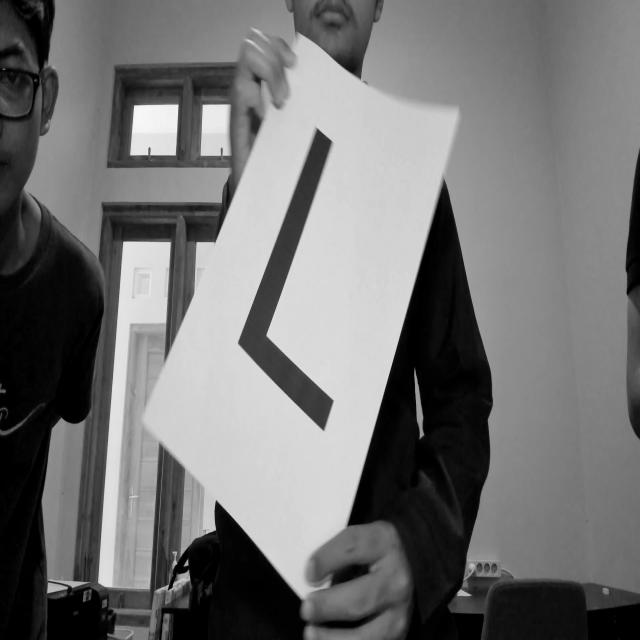l: (228, 108, 362, 462)
